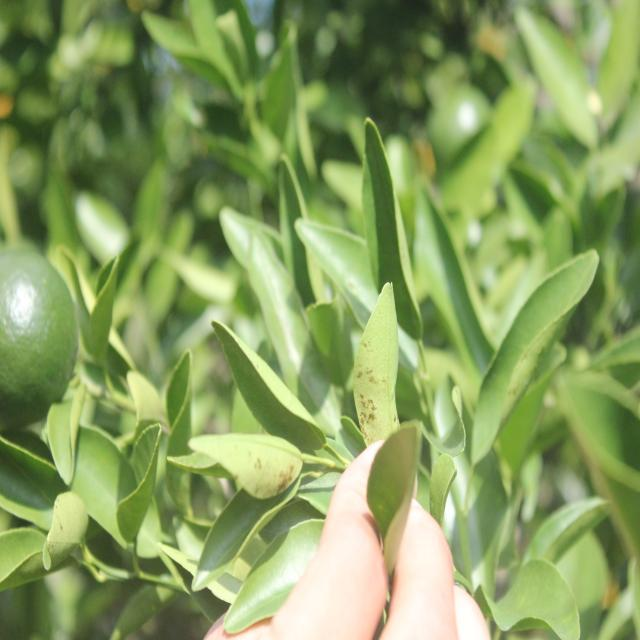melanose: (194, 424, 312, 511), (346, 288, 403, 456)
